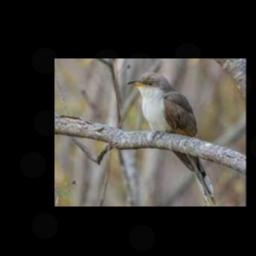Cuckoo: (126, 71, 217, 204)
